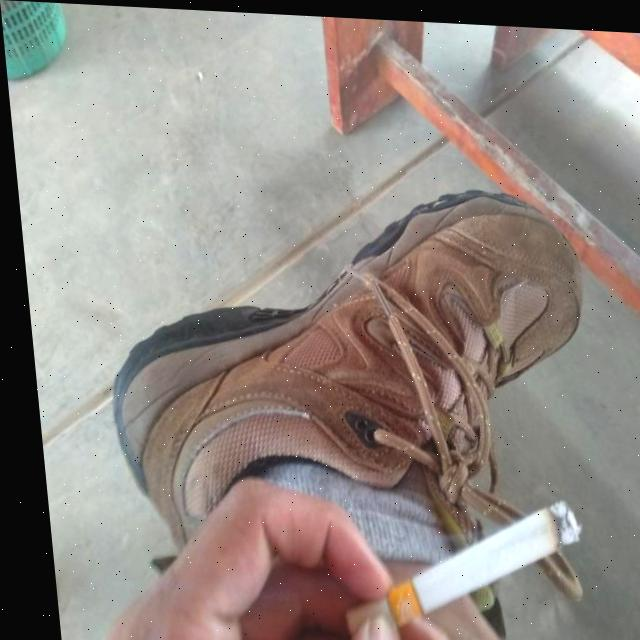cigarette: (325, 484, 582, 640)
